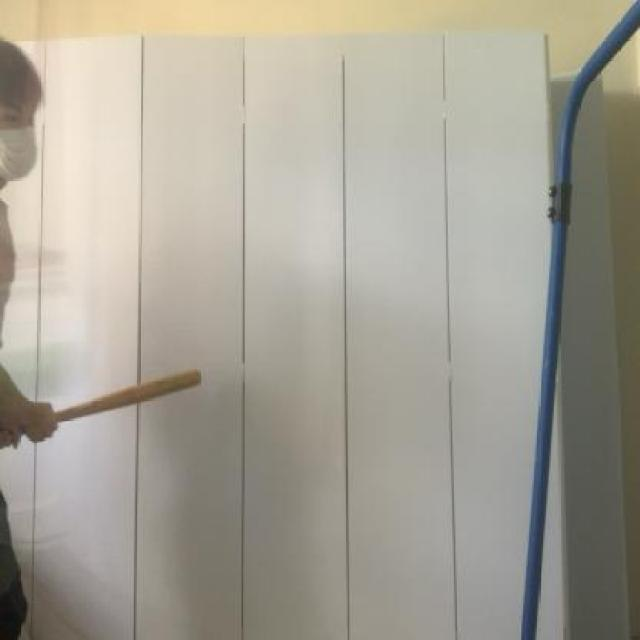baseball: (0, 340, 68, 402)
